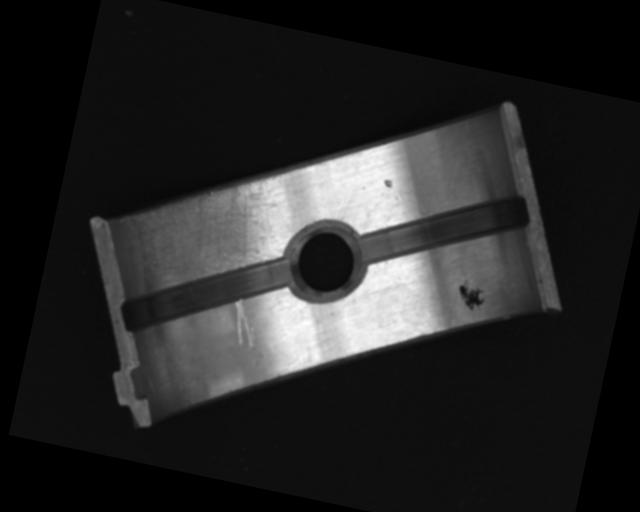blot: (452, 278, 488, 315)
bruise: (382, 178, 394, 189)
gap: (111, 226, 296, 365), (355, 164, 537, 295)
hole: (282, 217, 366, 302)
nick: (225, 298, 264, 352)
scratch: (105, 148, 294, 319)
